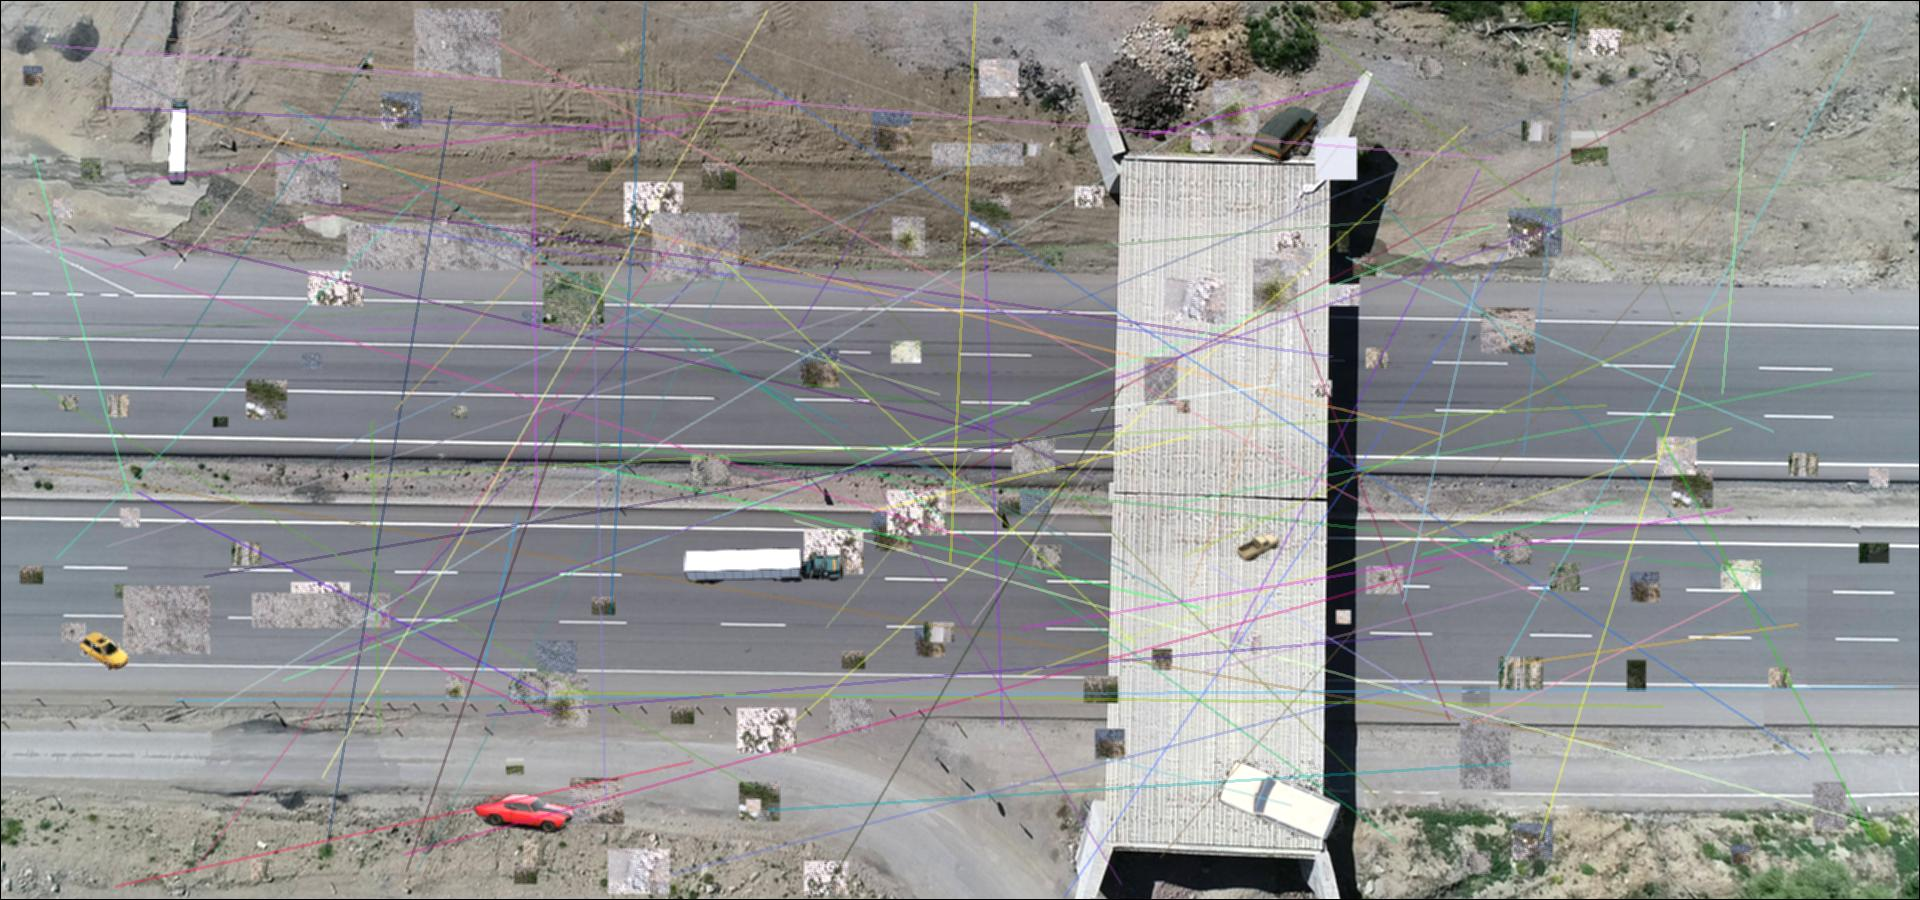arac: (1212, 759, 1344, 839), (681, 549, 845, 585), (471, 792, 576, 834), (1251, 105, 1320, 164), (165, 96, 189, 185), (80, 631, 129, 671), (1236, 531, 1280, 561)
